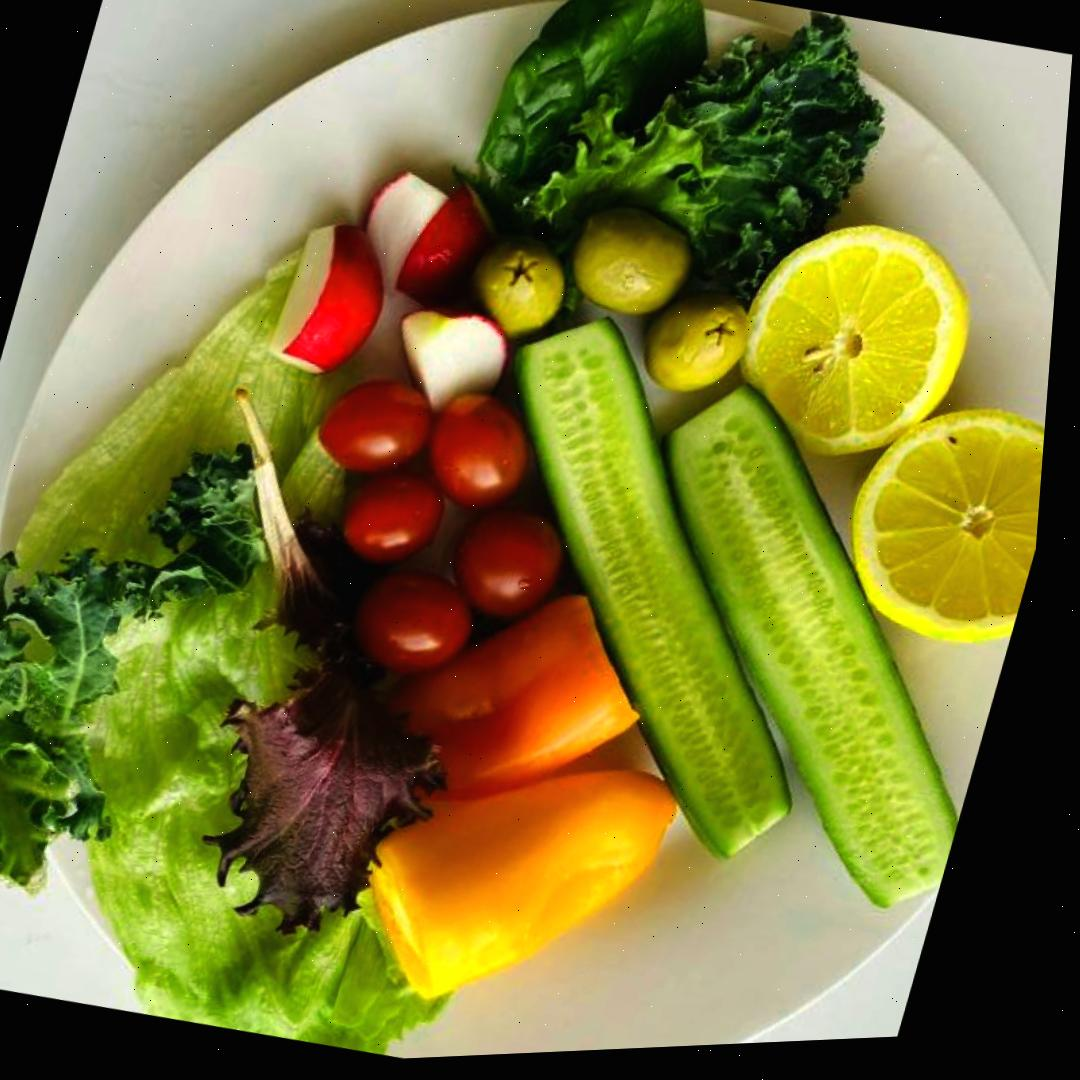matang: (334, 557, 484, 686), (410, 380, 547, 520), (433, 492, 575, 627), (306, 363, 445, 488), (333, 458, 454, 571)
